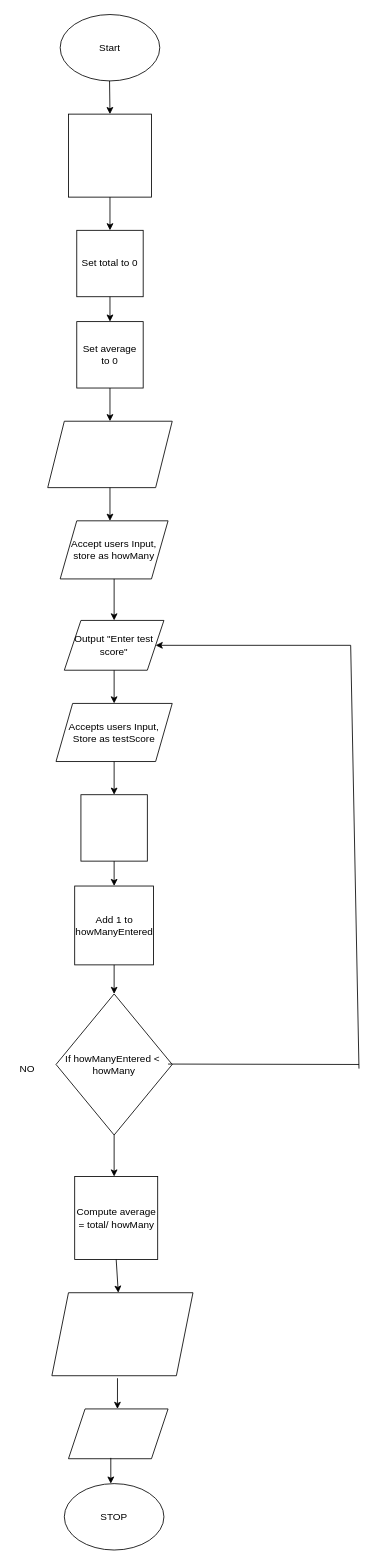
Some shapes in this 374 by 1565 pixel diagram are drawn without their labels. Each missing label, with the centre of its shape:
Add testScore to total: point (113, 827)
Output "How many test scores would you like to average: point (109, 454)
Output "The average for the test scores you entered is:": point (122, 1334)
Output average: point (118, 1433)
Set howmanyEntered to 0: point (109, 155)
